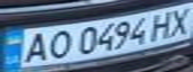0: (75, 24, 100, 55)
4: (127, 15, 154, 46), (97, 20, 118, 53)
9: (112, 18, 136, 50)
A: (15, 30, 54, 64)
H: (145, 8, 178, 41)
O: (39, 27, 75, 61)
X: (163, 4, 193, 37)
